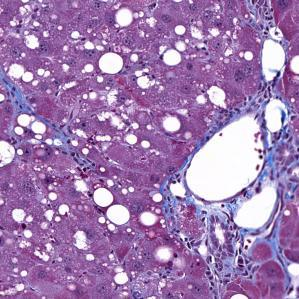fibrosis: (161, 190, 251, 272)
